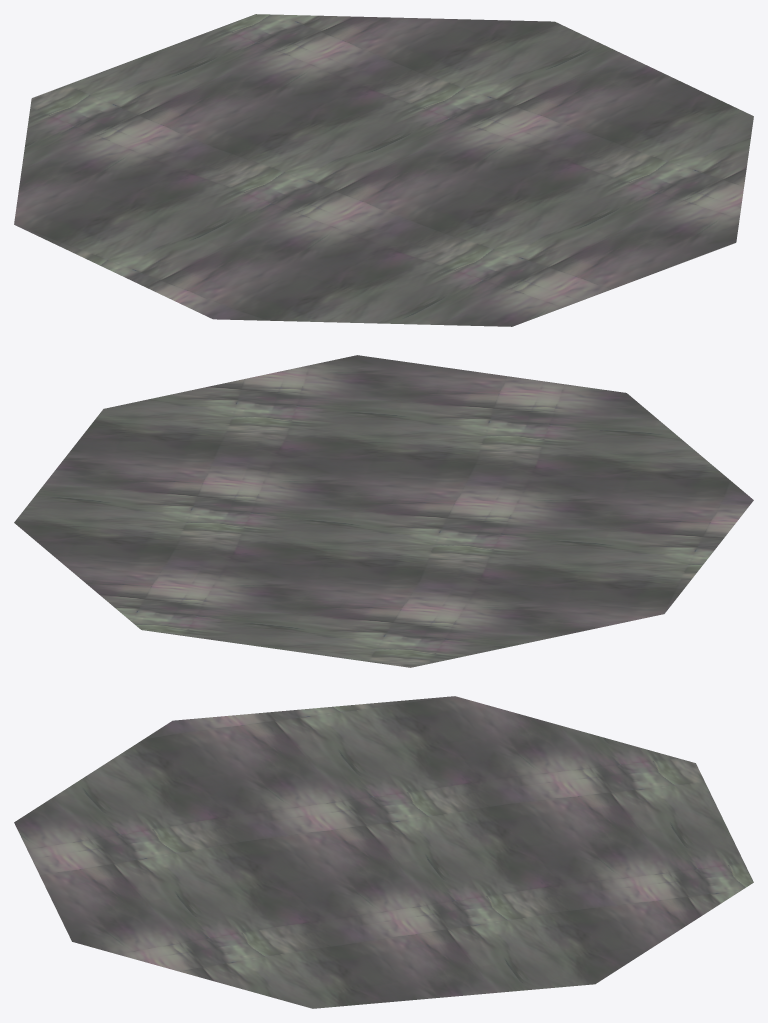
The model's file is TheOctagon_Floor_0.gltf.
The picture shows the model from 3 angles, top to bottom: view 1: azimuth 30°, elevation 25°; view 2: azimuth 150°, elevation 25°; view 3: azimuth 270°, elevation 25°; orthographic projection. The views are drawn at different scales.
Visible parts, largest first — view 1: TheOctagon_Floor_0; view 2: TheOctagon_Floor_0; view 3: TheOctagon_Floor_0.
Part boxes in pixels (x1=…): TheOctagon_Floor_0: x1=14, y1=14, x2=753, y2=326; TheOctagon_Floor_0: x1=14, y1=355, x2=753, y2=667; TheOctagon_Floor_0: x1=14, y1=696, x2=753, y2=1008.
Bounding box in the file's own units: 81.92 × 0 × 81.92.
1 material, 1 textured.
